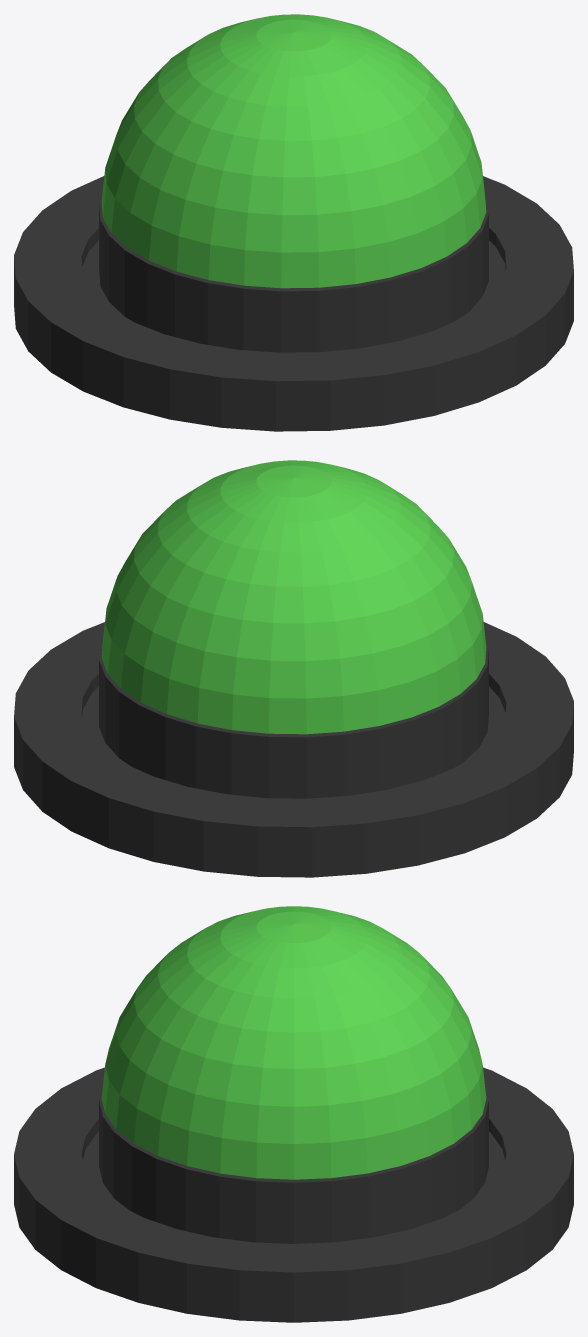
File: ButtonGreenOn.fbx
3 renders of one model, top to bottom at view 1: azimuth 30°, elevation 25°; view 2: azimuth 150°, elevation 25°; view 3: azimuth 270°, elevation 25°, orthographic.
Visible parts, largest first — view 1: ButtonGreen; view 2: ButtonGreen; view 3: ButtonGreen.
Part boxes in pixels (box(x1,y1,x2,y2)): ButtonGreen: box(14, 14, 573, 431); ButtonGreen: box(14, 460, 573, 877); ButtonGreen: box(14, 906, 573, 1322).
Size of the model in its own units: 200 by 111 by 200.
